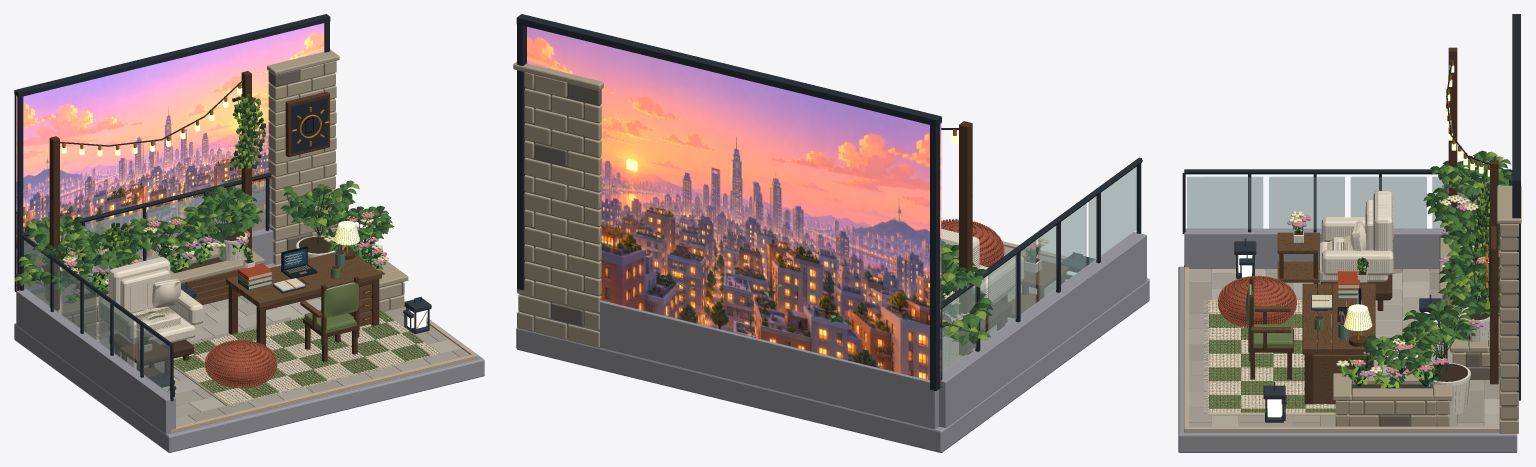
Rendered from terrace-mobile.glb.
The picture shows the model from 3 angles, left to right: view 1: azimuth 30°, elevation 25°; view 2: azimuth 150°, elevation 25°; view 3: azimuth 270°, elevation 25°; orthographic projection. The views are drawn at different scales.
Parts seen in each view (by area): view 1: asset-architecture, asset-terrace-woven-rug, asset-terrace-reading-chair, asset-desk, asset-Olive tree pot, asset-chair, asset-rust-knitted-puff, asset-Terrace planter 1, asset-Terrace sun, asset-Terrace planter 2, asset-Terrace mature garden 2, asset-Terrace border tall fern (+13 smaller); view 2: asset-architecture, asset-terrace-reading-chair, asset-Terrace border tall fern, asset-Terrace mature garden 0, asset-terrace-side-table, asset-rust-knitted-puff; view 3: asset-architecture, asset-terrace-woven-rug, asset-Terrace planter 2, asset-terrace-reading-chair, asset-desk, asset-Olive tree pot, asset-rust-knitted-puff, asset-chair, asset-Terrace border tall fern, asset-Terrace mature garden 4, asset-terrace-side-table, asset-Terrace layered fern (+12 smaller).
Boxes of the visible parts, x1,y1,x2,y2 form: asset-architecture: [14, 14, 484, 452]; asset-terrace-woven-rug: [173, 310, 440, 406]; asset-terrace-reading-chair: [99, 257, 203, 365]; asset-desk: [226, 249, 381, 345]; asset-Olive tree pot: [280, 180, 359, 258]; asset-chair: [300, 276, 362, 362]; asset-rust-knitted-puff: [205, 339, 277, 388]; asset-Terrace planter 1: [160, 232, 264, 282]; asset-Terrace sun: [285, 91, 330, 157]; asset-Terrace planter 2: [321, 226, 408, 311]; asset-Terrace mature garden 2: [130, 212, 201, 257]; asset-Terrace border tall fern: [24, 216, 90, 303]; asset-architecture: [513, 14, 1149, 452]; asset-terrace-reading-chair: [941, 228, 1023, 348]; asset-Terrace border tall fern: [941, 240, 988, 365]; asset-Terrace mature garden 0: [941, 288, 992, 346]; asset-terrace-side-table: [1001, 256, 1067, 322]; asset-rust-knitted-puff: [941, 218, 1004, 267]; asset-architecture: [1178, 14, 1521, 452]; asset-terrace-woven-rug: [1204, 300, 1361, 415]; asset-Terrace planter 2: [1333, 349, 1452, 426]; asset-terrace-reading-chair: [1318, 191, 1393, 310]; asset-desk: [1302, 283, 1375, 404]; asset-Olive tree pot: [1402, 301, 1477, 415]; asset-rust-knitted-puff: [1218, 275, 1296, 328]; asset-chair: [1245, 277, 1293, 379]; asset-Terrace border tall fern: [1430, 150, 1512, 233]; asset-Terrace mature garden 4: [1363, 331, 1435, 381]; asset-terrace-side-table: [1277, 232, 1319, 288]; asset-Terrace layered fern: [1444, 260, 1499, 342].
Size of the model in its own units: 4.98 by 3.49 by 3.99.
Materials: 62 (1 with a texture image).
